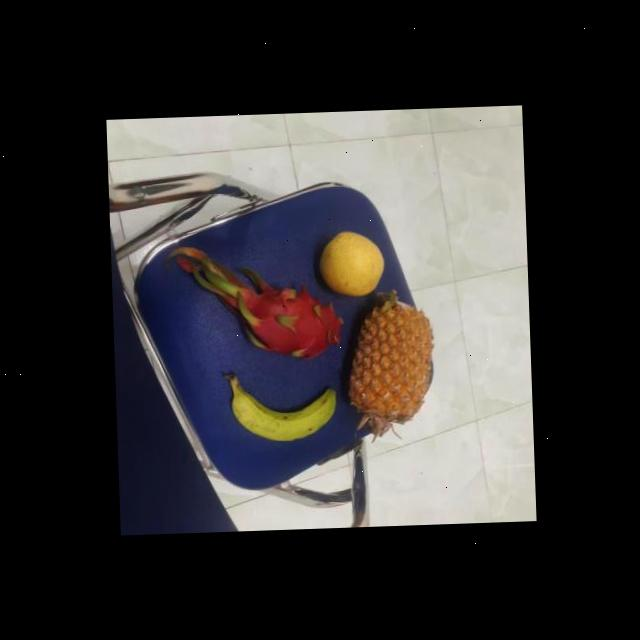banana: (230, 370, 334, 444)
pear: (316, 227, 384, 300)
pineapple: (341, 294, 436, 426)
pitaya: (242, 276, 341, 361)
